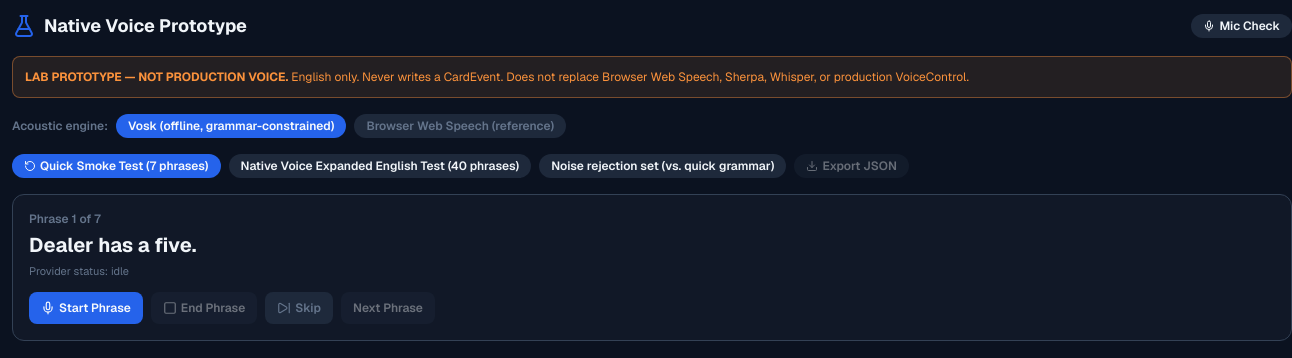
Test: Native Voice Prototype Lab page › Quick Smoke Test / Noise rejection set buttons swap the active phrase list and reset to Phrase 1
The image size is (1292, 358).
Click the button "Noise rejection set (vs. quick grammar)". click: (663, 166)
box: [539,154,786,178]
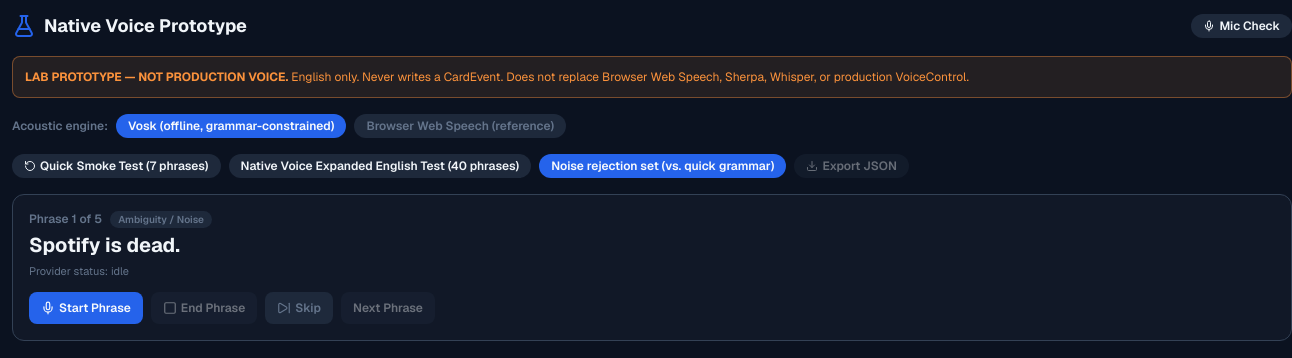
Expected: the text with test id "expected-phrase" reads "Spotify is dead.", [29,232,180,258]
Click the button "Quick Smoke Test (7 phrases)". click: (116, 166)
box: [12,154,220,178]
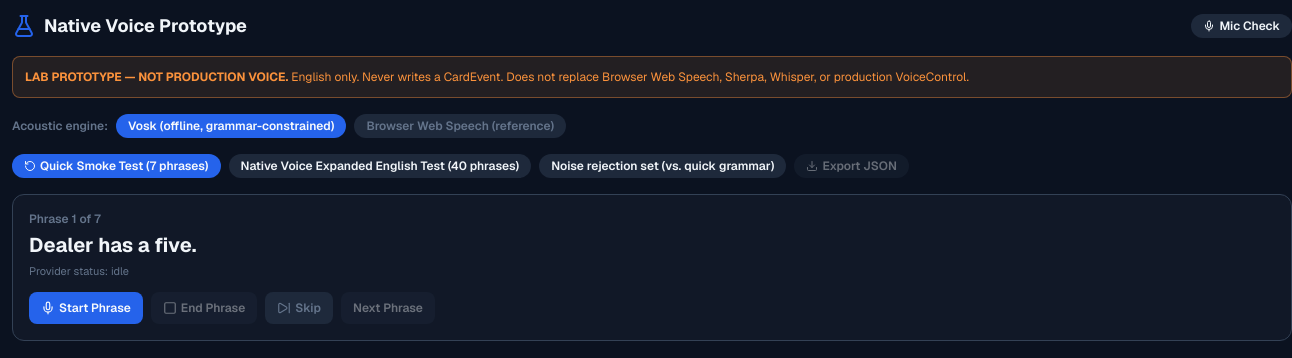
Expected: the text with test id "expected-phrase" reads "Dealer has a five.", [29,232,196,258]
